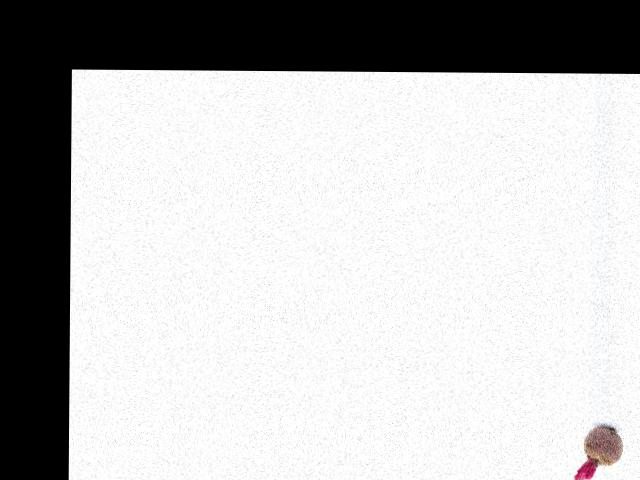beet: (549, 426, 624, 480)
